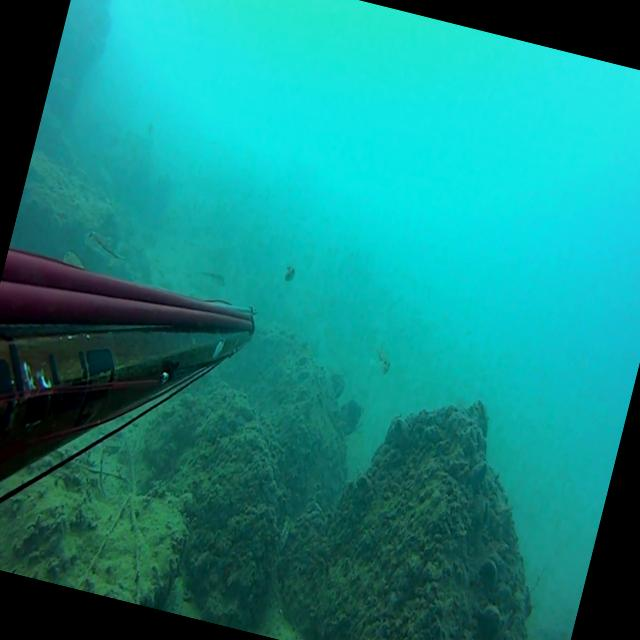Balon Baligi: (79, 230, 129, 270), (368, 346, 393, 376), (196, 270, 226, 286), (62, 250, 86, 268), (284, 264, 296, 282)
